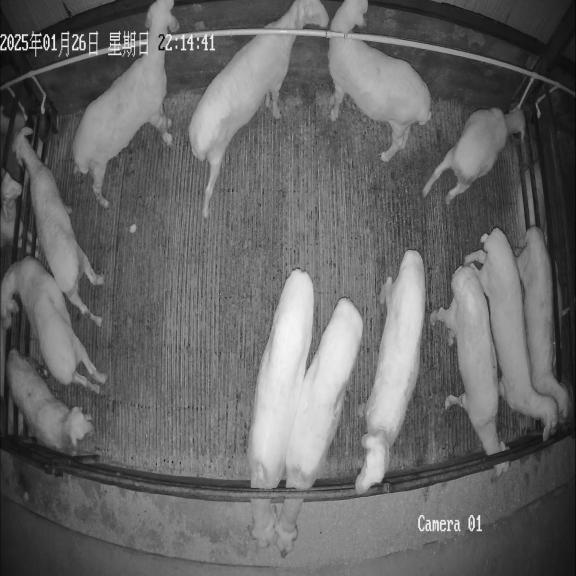drinking: (423, 108, 525, 203)
eating: (274, 298, 363, 556), (247, 269, 314, 546), (430, 263, 511, 479)
stand: (188, 0, 329, 218), (73, 0, 179, 208), (464, 228, 559, 440), (12, 127, 104, 325), (355, 250, 425, 494), (328, 0, 431, 161), (1, 256, 105, 393), (516, 226, 569, 418), (6, 349, 93, 455)
